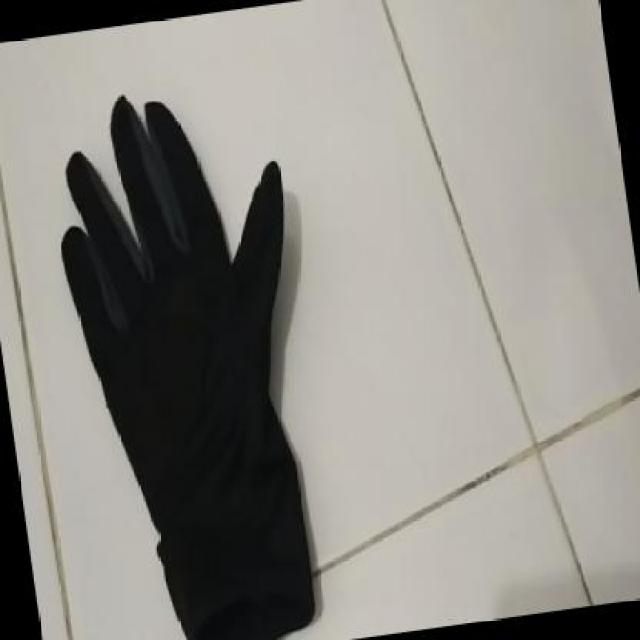gloved_hand: (35, 72, 340, 638)
